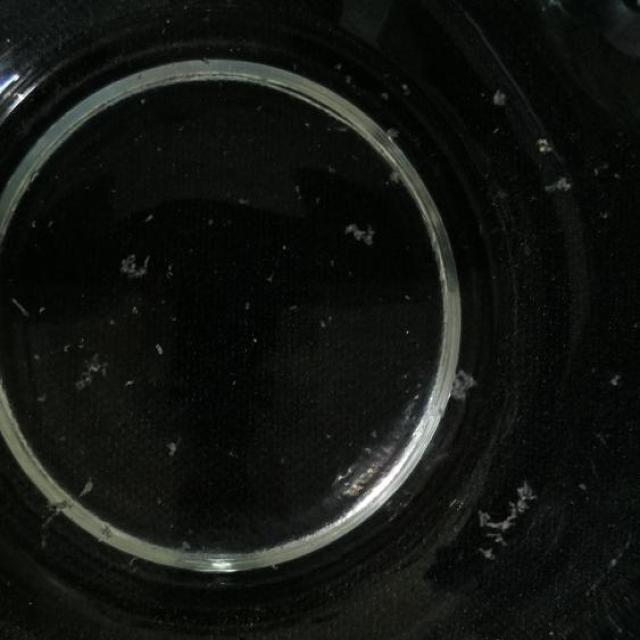fiber: (472, 483, 543, 553), (440, 346, 486, 408), (57, 346, 110, 396), (335, 214, 388, 254), (108, 238, 150, 288), (540, 164, 584, 202), (73, 465, 111, 502), (528, 122, 554, 162), (483, 86, 515, 116), (164, 429, 190, 464)
